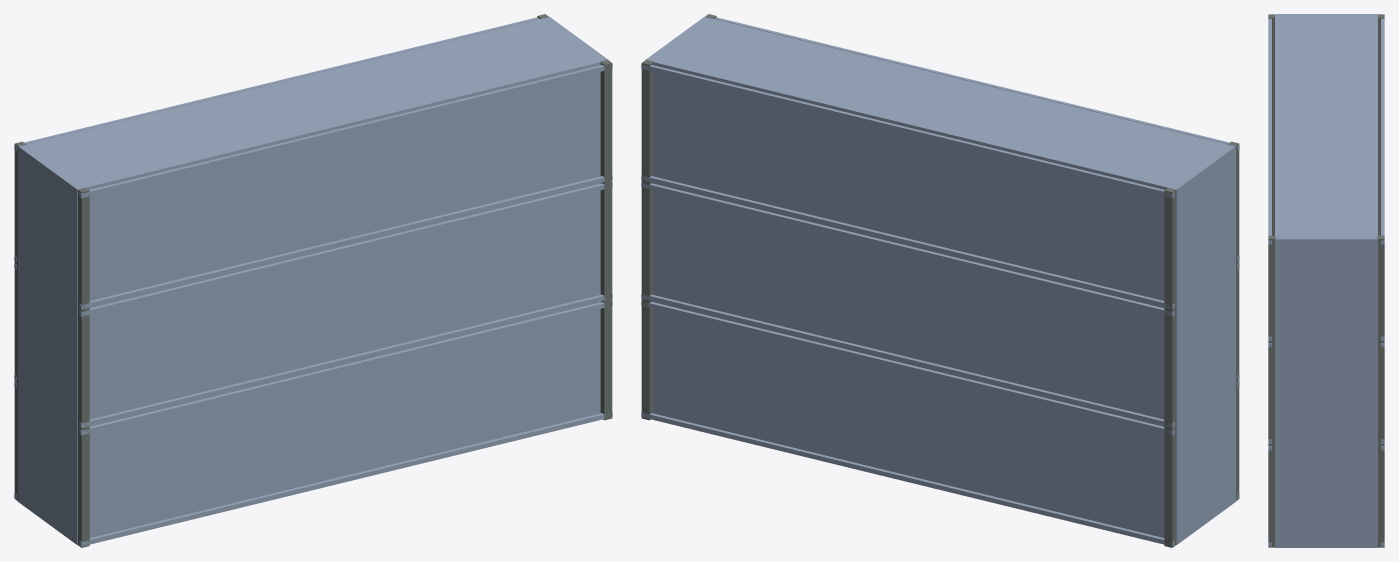
3 views of the same model, side by side, from view 1: azimuth 30°, elevation 25°; view 2: azimuth 150°, elevation 25°; view 3: azimuth 270°, elevation 25° (orthographic). The views are drawn at different scales.
Bounding box in the file's own units: 12.2 × 7.8 × 2.66.
